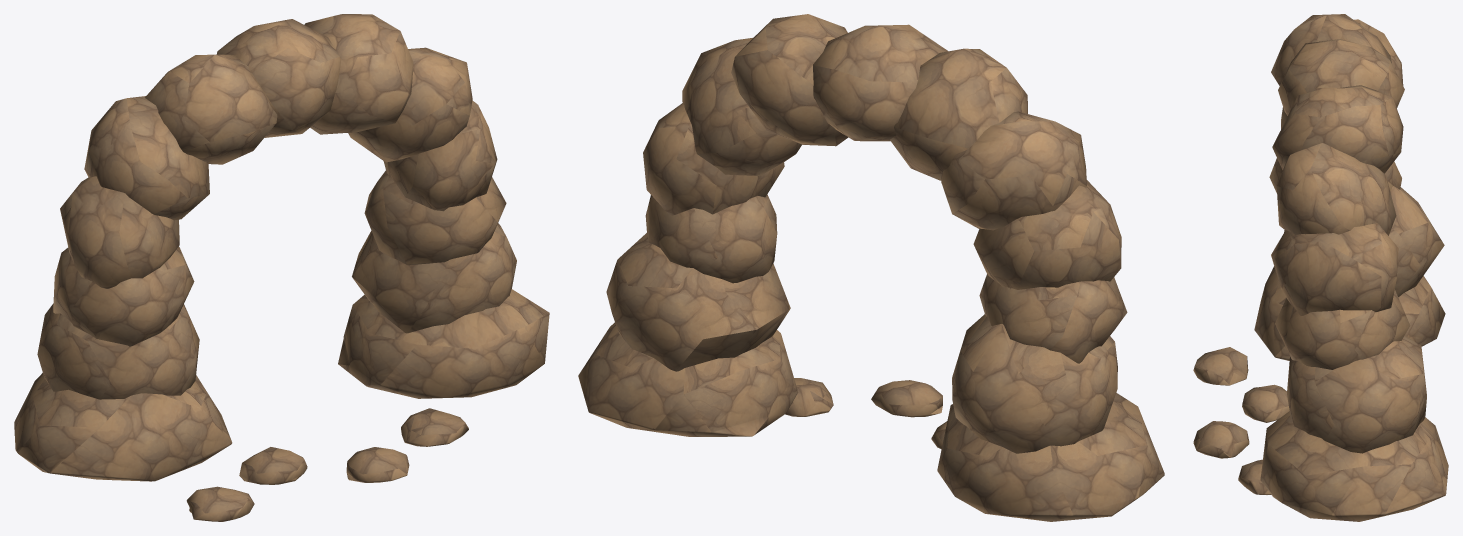
The model's file is rock_arch.gltf.
3 views of the same model, side by side, from view 1: azimuth 30°, elevation 25°; view 2: azimuth 150°, elevation 25°; view 3: azimuth 270°, elevation 25° (orthographic). The views are drawn at different scales.
Visible parts, largest first — view 1: rock_arch; view 2: rock_arch; view 3: rock_arch.
Boxes of the visible parts, x1,y1,x2,y2 form: rock_arch: [14, 14, 549, 521]; rock_arch: [578, 14, 1164, 521]; rock_arch: [1193, 14, 1448, 521].
Bounding box in the file's own units: 11.05 × 8.46 × 5.03.
Materials: 1 (1 with a texture image).
